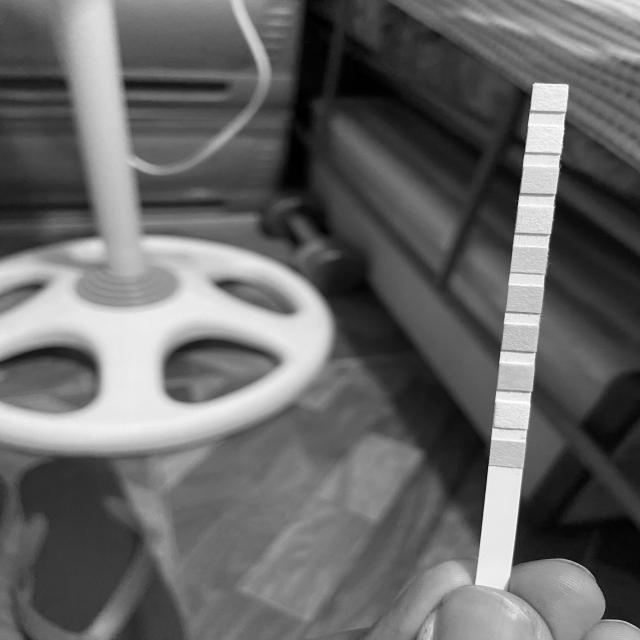Bilirubin: (495, 404, 528, 428)
Blood: (508, 287, 541, 312)
Glucose: (492, 443, 524, 465)
Ketone: (499, 365, 533, 389)
Leukocytes: (533, 85, 566, 111)
Nitrite: (529, 127, 561, 152)
Protein: (518, 208, 551, 232)
SpGravity: (504, 326, 537, 350)
Urobilinogen: (524, 167, 556, 193)
background: (0, 0, 640, 639)
pH: (513, 248, 546, 272)
strip: (475, 83, 568, 585)
